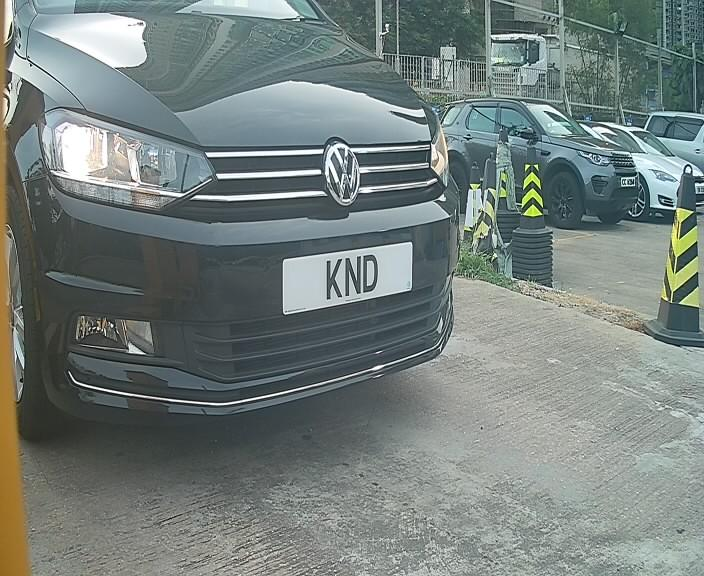License Plate: (274, 232, 419, 317)
